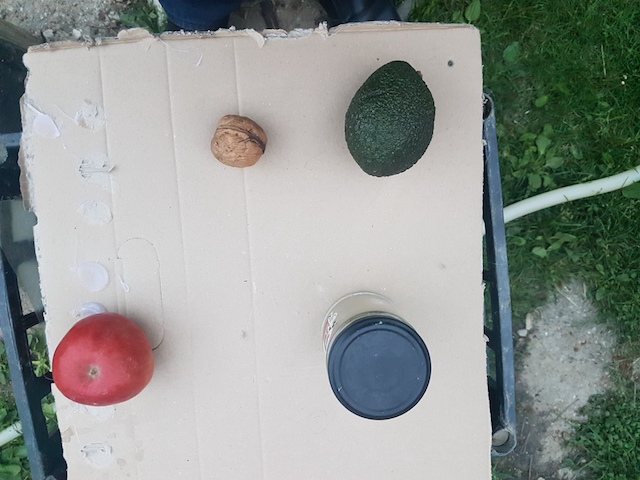apple: (43, 314, 158, 409)
avocado: (343, 64, 437, 191)
nut: (209, 113, 274, 173)
recipient: (326, 323, 437, 427)
